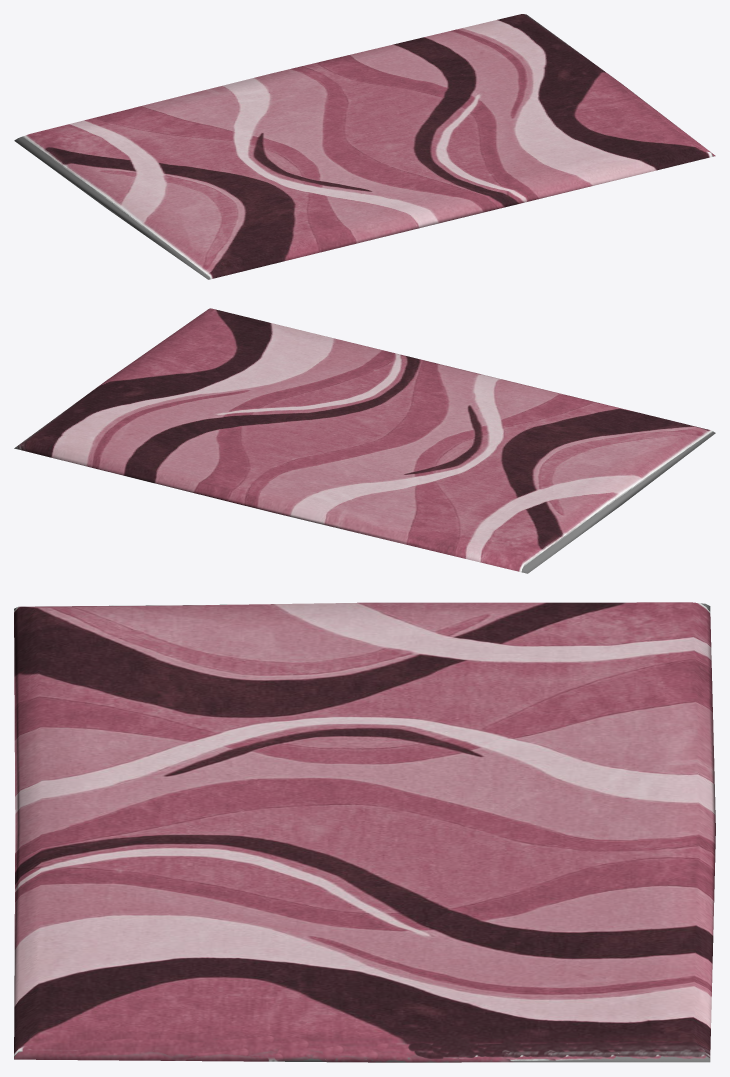
Rendered from carpet.fbx.
3 renders of one model, top to bottom at view 1: azimuth 30°, elevation 25°; view 2: azimuth 150°, elevation 25°; view 3: azimuth 270°, elevation 25°, orthographic. The views are drawn at different scales.
Parts seen in each view (by area): view 1: Rooms_01_carpet; view 2: Rooms_01_carpet; view 3: Rooms_01_carpet.
Part boxes in pixels (left/top/right/bottom): Rooms_01_carpet: left=14, top=14, right=715, bottom=279; Rooms_01_carpet: left=14, top=308, right=715, bottom=573; Rooms_01_carpet: left=14, top=602, right=715, bottom=1062.
Size of the model in its own units: 1.94 by 0.0302 by 1.26.
